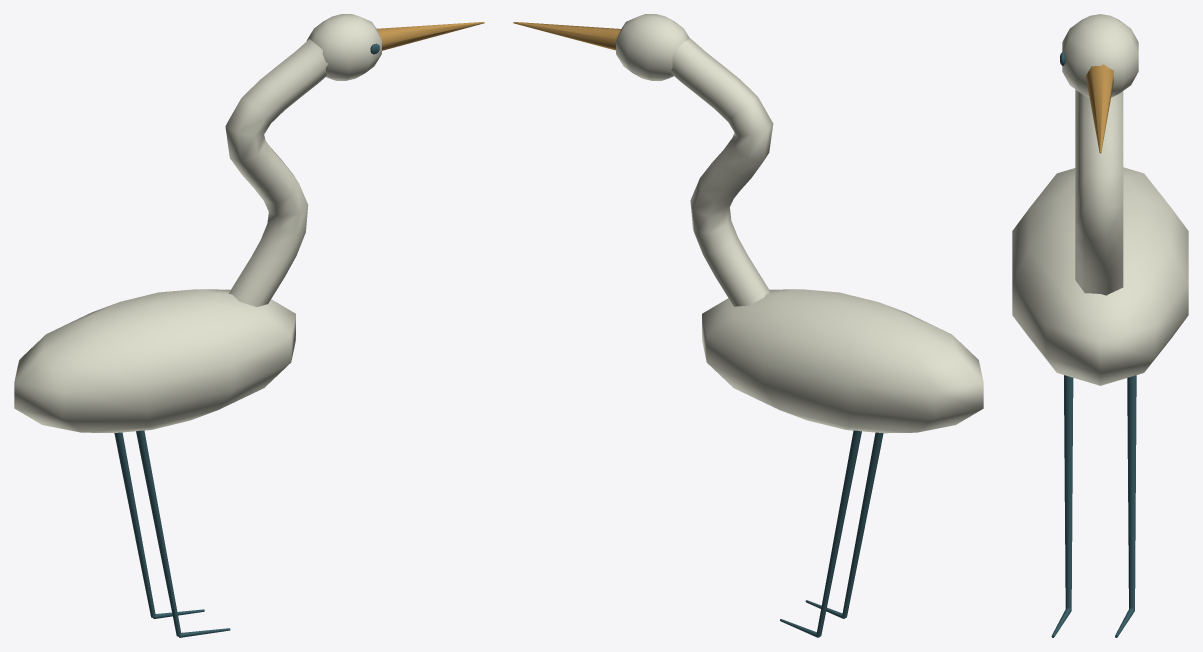
Rendered from egret-standing.glb.
3 views of the same model, side by side, from view 1: azimuth 30°, elevation 25°; view 2: azimuth 150°, elevation 25°; view 3: azimuth 270°, elevation 25° (orthographic). The views are drawn at different scales.
Parts seen in each view (by area): view 1: Body, Neck, Head, Leg_0.1, Leg_-0.1, Beak; view 2: Body, Neck, Head, Leg_-0.1, Leg_0.1, Beak; view 3: Body, Neck, Head, Leg_-0.1, Leg_0.1, Beak.
Boxes of the visible parts, x1,y1,x2,y2 form: Body: [14, 289, 295, 432]; Neck: [225, 39, 328, 306]; Head: [306, 14, 381, 80]; Leg_0.1: [136, 430, 181, 636]; Leg_-0.1: [114, 432, 155, 617]; Beak: [377, 22, 484, 50]; Body: [702, 289, 983, 433]; Neck: [669, 38, 773, 306]; Head: [616, 14, 689, 80]; Leg_-0.1: [816, 430, 861, 636]; Leg_0.1: [842, 432, 883, 617]; Beak: [513, 22, 620, 50]; Body: [1012, 167, 1188, 385]; Neck: [1075, 89, 1123, 295]; Head: [1062, 14, 1138, 97]; Leg_-0.1: [1127, 375, 1136, 609]; Leg_0.1: [1064, 375, 1073, 609]; Beak: [1085, 64, 1113, 153].
Bounding box in the file's own units: 2.11 × 2.44 × 0.5563.
